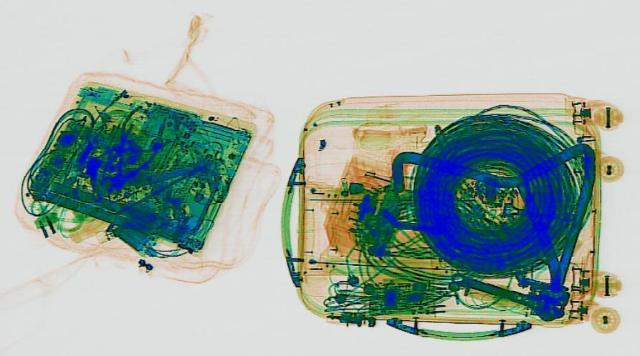Pliers: (82, 121, 170, 201)
Wrench: (438, 266, 574, 321)
